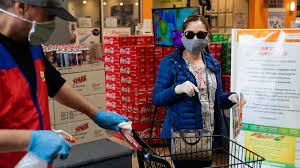mask: (1, 0, 54, 53), (180, 18, 213, 55)
